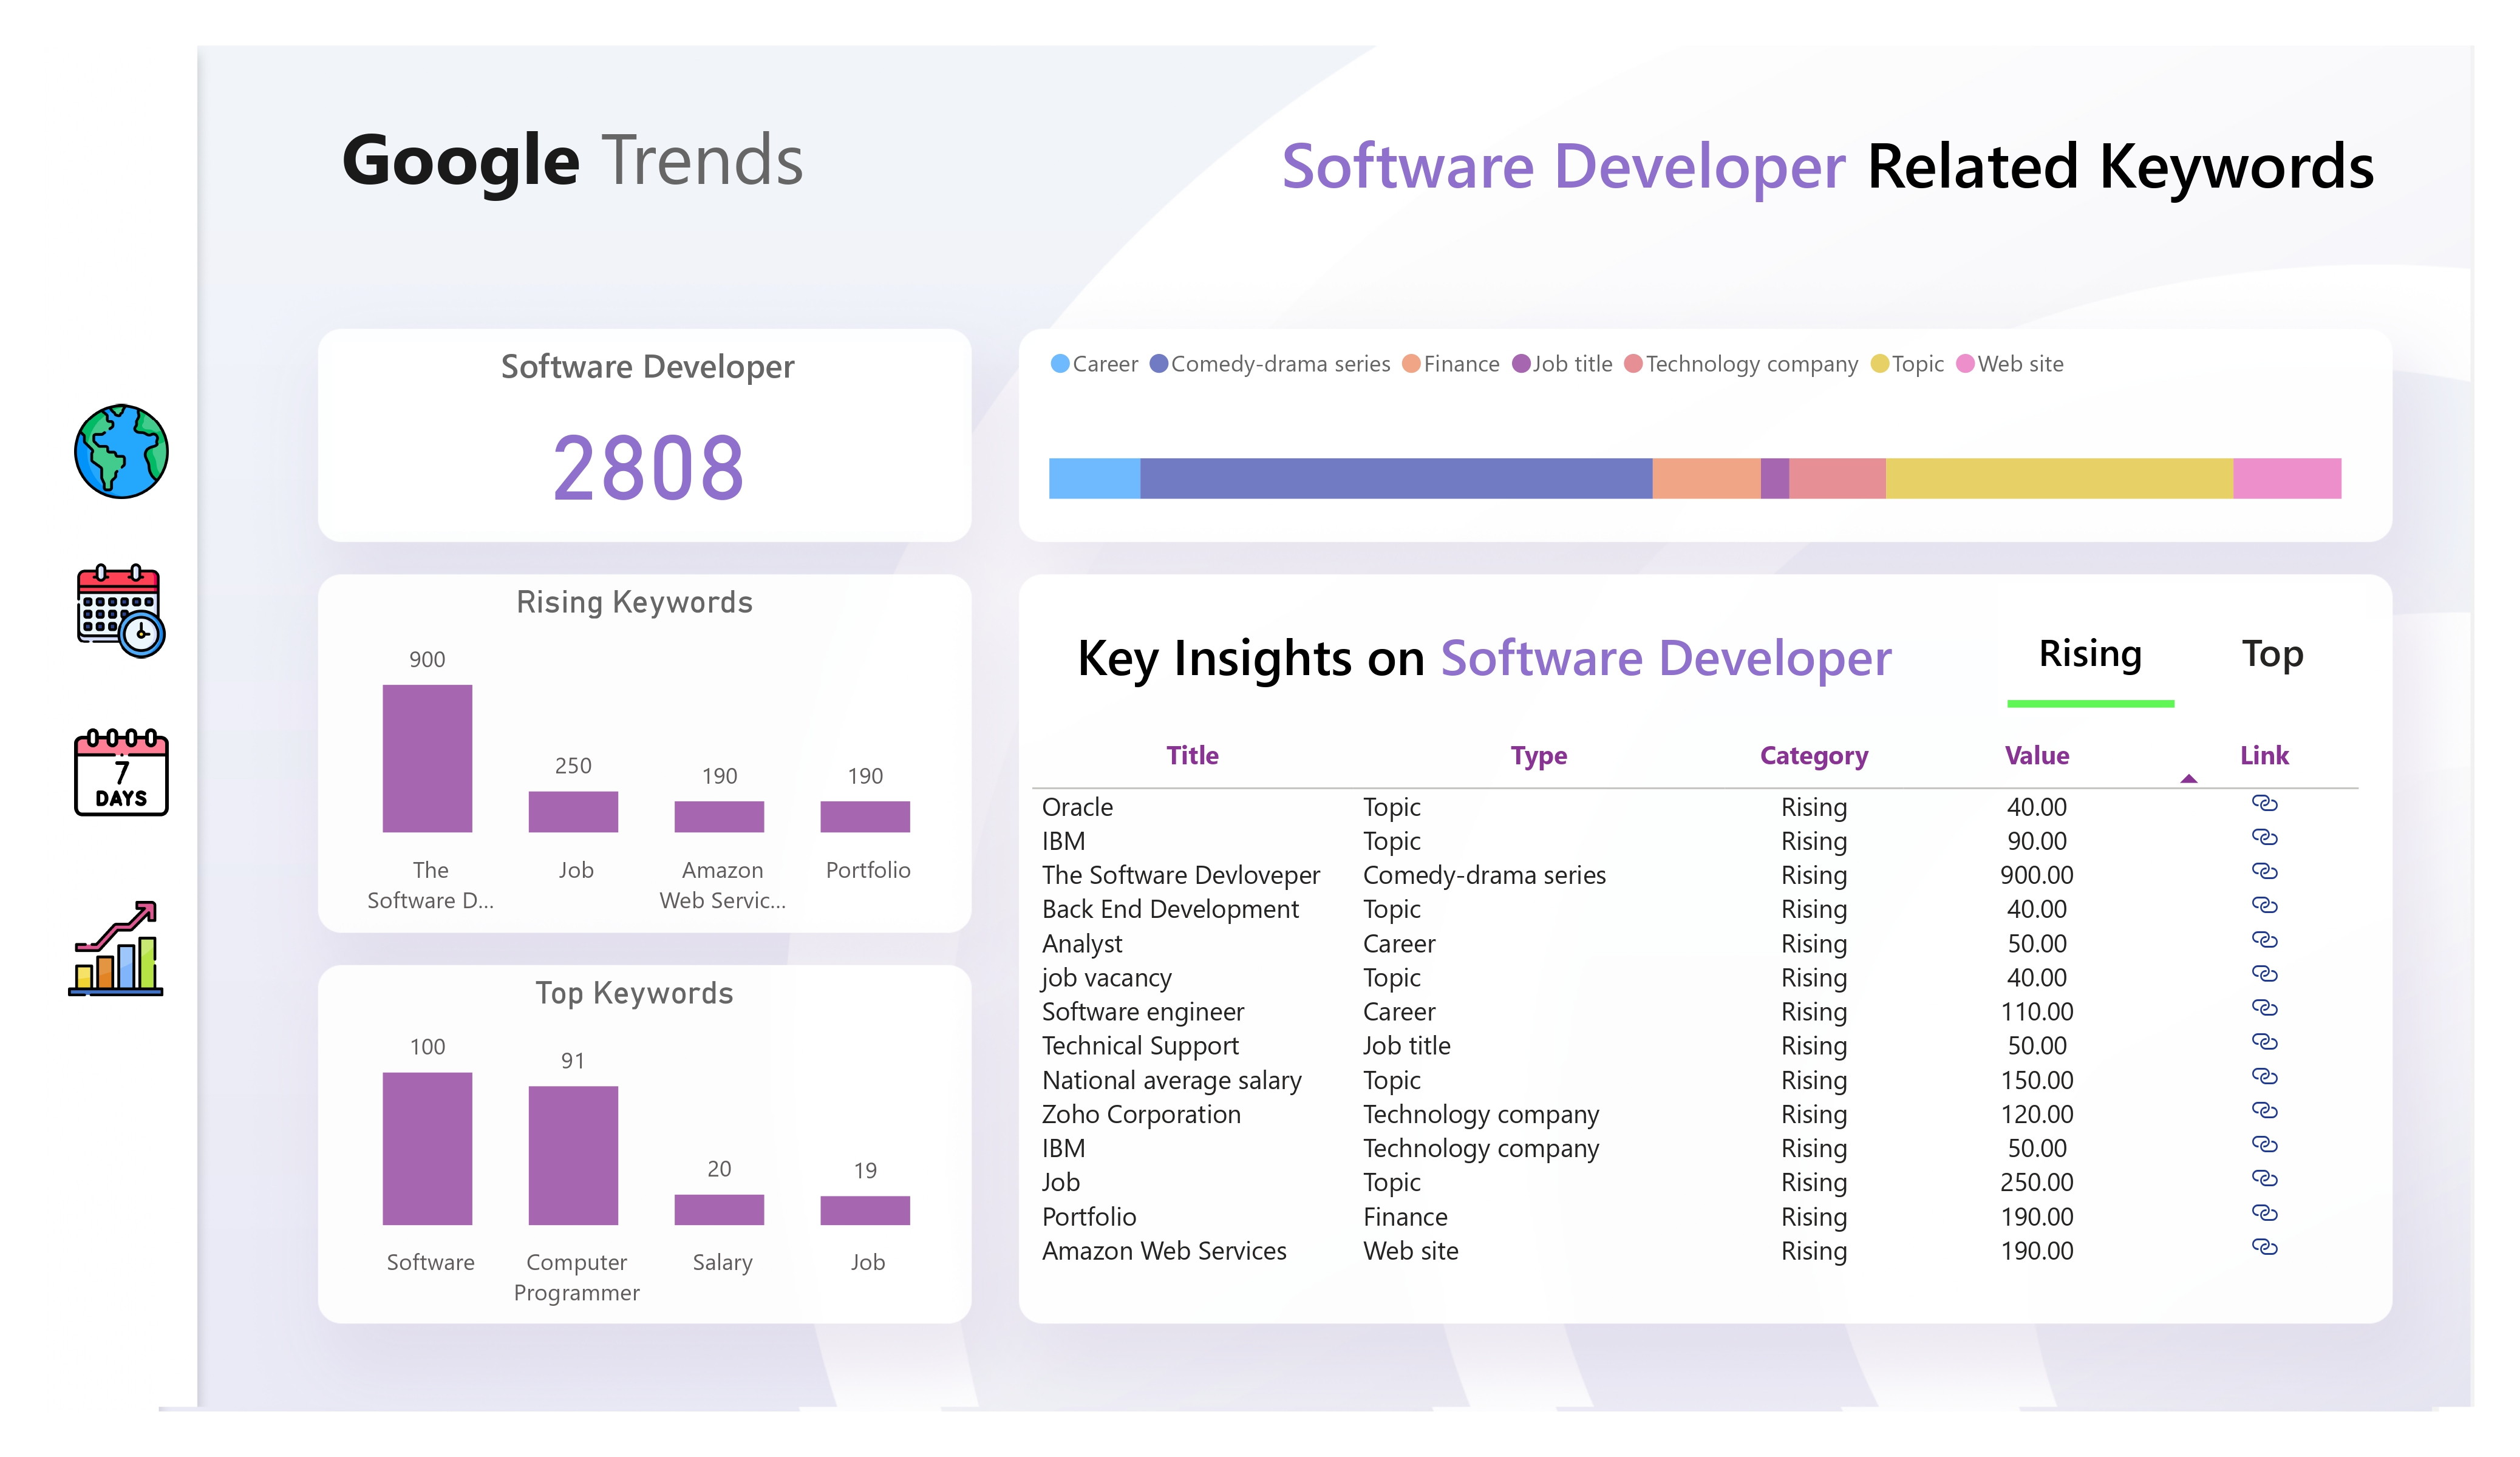

What the dashboard file says about the page in this screenshot:
{"tool":"powerbi","page":{"name":"Rising and Top Keywords","canvas":[1280,720],"ordinal":3},"visuals":[{"type":"card","fields":{"Values":["API_Date.Imp_Value"]},"box":[151.2,156.2,332.5,100],"z":0},{"type":"textbox","box":[151.2,27.5,273.8,66.2],"z":1000},{"type":"shape","box":[586.2,27.5,362.5,66.2],"z":2000},{"type":"shape","box":[932.8,27.5,321.2,66.2],"z":3000},{"type":"columnChart","title":"Rising Keywords","fields":{"Y":["Sum(API_RisingKeywords.Value)"],"Category":["API_RisingKeywords.Title"]},"box":[126.2,282.5,368.8,183.8],"z":4000},{"type":"columnChart","title":"Top Keywords","fields":{"Category":["API_TopKeywords.Title"],"Y":["Sum(API_TopKeywords.Value)"]},"box":[126.2,488.8,368.8,183.8],"z":5000},{"type":"barChart","fields":{"Y":["Sum(API_RisingKeywords.Value)"],"Series":["API_RisingKeywords.Type"]},"box":[523.8,147.5,730,126.2],"z":6000},{"type":"advancedSlicerVisual","fields":{"Values":["RIsing_Top.Category"]},"box":[1028.8,282.5,193.8,71.2],"z":7000},{"type":"tableEx","fields":{"Values":["RIsing_Top.Title","RIsing_Top.Type","RIsing_Top.Category","Sum(RIsing_Top.Value)","RIsing_Top.Link"]},"box":[513.8,360,720,312.5],"z":8000},{"type":"shape","box":[735,293.5,280,53.8],"z":9000},{"type":"shape","box":[532.5,293.5,205,53.8],"z":10000},{"type":"actionButton","box":[14.7,188.8,50,50],"z":11000},{"type":"actionButton","box":[14.7,272.5,50,50],"z":12000},{"type":"actionButton","box":[14.7,357.5,50,50],"z":13000},{"type":"actionButton","box":[12.2,451.2,50,50],"z":14000}]}

Visuals, with their boxes in screenshot pixels (x1, y1, x2, y2):
card - API_Date.Imp_Value: 333, 342, 964, 532
textbox: 333, 98, 852, 223
shape: 1158, 98, 1846, 223
shape: 1816, 98, 2425, 223
"Rising Keywords" columnChart: 285, 582, 985, 930
"Top Keywords" columnChart: 285, 973, 985, 1322
barChart - Sum(API_RisingKeywords.Value) x API_RisingKeywords.Type: 1040, 325, 2425, 565
advancedSlicerVisual - RIsing_Top.Category: 1998, 582, 2366, 716
tableEx - RIsing_Top.Title x RIsing_Top.Type: 1021, 728, 2387, 1322
shape: 1440, 602, 1972, 704
shape: 1056, 602, 1445, 704
actionButton: 73, 404, 168, 498
actionButton: 73, 563, 168, 657
actionButton: 73, 724, 168, 818
actionButton: 69, 902, 163, 996
